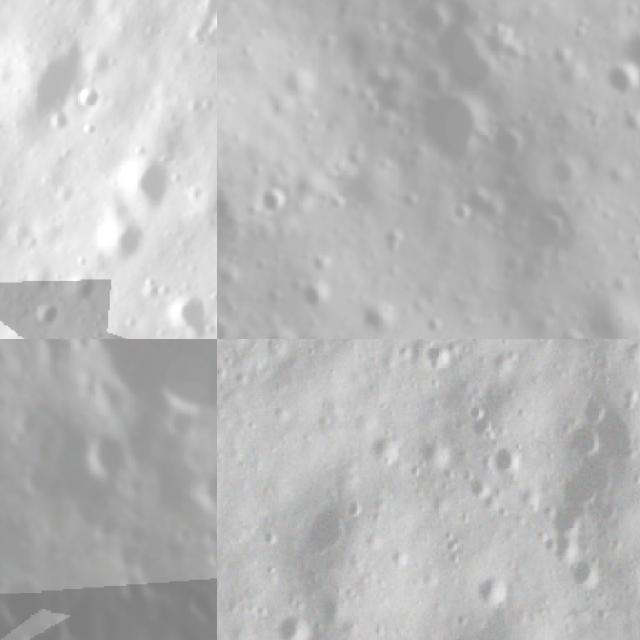crater: (66, 339, 217, 435), (413, 0, 515, 104), (107, 138, 193, 221), (283, 482, 362, 572), (410, 89, 488, 176), (91, 202, 158, 272), (520, 196, 582, 261), (159, 279, 217, 339), (0, 566, 45, 635), (23, 282, 72, 332), (355, 291, 402, 339), (82, 438, 128, 487), (487, 119, 530, 168), (248, 179, 298, 221), (60, 589, 100, 640), (538, 504, 598, 538), (294, 270, 334, 318), (596, 57, 640, 100), (470, 563, 515, 603), (544, 149, 590, 188), (272, 606, 319, 640), (568, 426, 606, 463), (489, 441, 523, 482), (578, 387, 613, 425), (420, 339, 454, 376), (568, 553, 602, 590), (188, 475, 217, 513), (217, 190, 227, 236)
